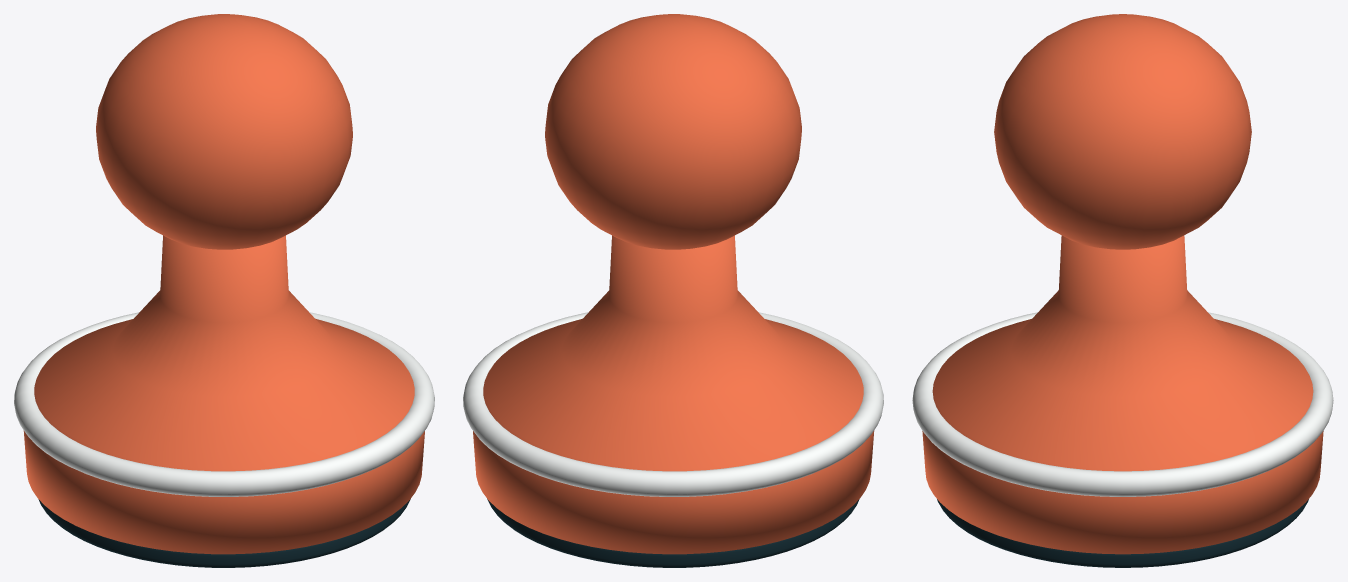
The model's file is stamp.glb.
3 views of the same model, side by side, from view 1: azimuth 30°, elevation 25°; view 2: azimuth 150°, elevation 25°; view 3: azimuth 270°, elevation 25° (orthographic).
Visible parts, largest first — view 1: StampBody, StampKnob, StampBand, StampPad; view 2: StampBody, StampKnob, StampBand, StampPad; view 3: StampBody, StampKnob, StampBand, StampPad.
Boxes of the visible parts, <box> form: StampBody: <box>23,235,424,554</box>; StampKnob: <box>96,14,352,249</box>; StampBand: <box>14,312,434,496</box>; StampPad: <box>38,499,410,567</box>; StampBody: <box>473,235,874,554</box>; StampKnob: <box>545,14,801,249</box>; StampBand: <box>463,312,883,496</box>; StampPad: <box>487,499,859,567</box>; StampBody: <box>922,235,1323,554</box>; StampKnob: <box>994,14,1251,249</box>; StampBand: <box>912,312,1333,496</box>; StampPad: <box>937,499,1308,567</box>.
Size of the model in its own units: 0.98 by 1.19 by 0.98.
